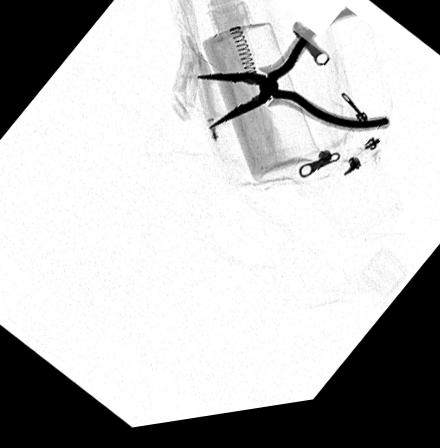Pliers: (192, 16, 389, 140)
